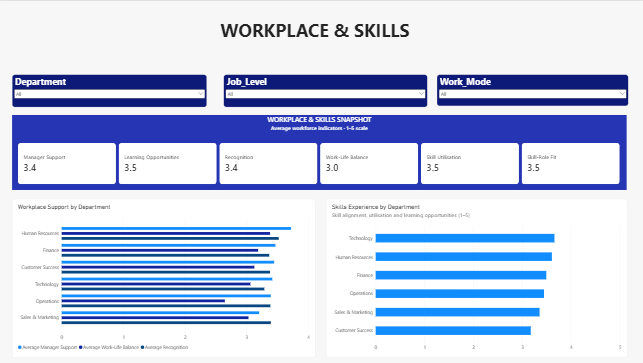

What the dashboard file says about the page in this screenshot:
{"tool":"powerbi","page":{"name":"WORKPLACE & SKILLS","canvas":[1920,1080],"ordinal":2},"visuals":[{"type":"textbox","box":[661.7,51.7,585,80],"z":0},{"type":"slicer","fields":{"Values":["WorkforceDataTable.Work_Mode"]},"box":[1303.3,220,570,93.3],"z":1000},{"type":"slicer","fields":{"Values":["WorkforceDataTable.Job_Level"]},"box":[670,220,606.7,96.7],"z":2000},{"type":"slicer","fields":{"Values":["WorkforceDataTable.Department"]},"box":[40,217.5,580,96.7],"z":3000},{"type":"cardVisual","title":"WORKPLACE & SKILLS SNAPSHOT","fields":{"Data":["WorkforceDataTable.Average Manager Support","WorkforceDataTable.Average Learning Opportunities","WorkforceDataTable.Average Recognition","WorkforceDataTable.Average Work-Life Balance","WorkforceDataTable.Average Skill Utilisation","WorkforceDataTable.Average Skill-Role Fit"]},"box":[40,340,1830,223.3],"z":4000},{"type":"clusteredBarChart","title":"Workplace Support by Department","fields":{"Category":["WorkforceDataTable.Department"],"Y":["WorkforceDataTable.Average Manager Support","WorkforceDataTable.Average Work-Life Balance","WorkforceDataTable.Average Recognition"]},"box":[40,590,903.3,473.3],"z":5000},{"type":"clusteredBarChart","title":"Skills Experience by Department","fields":{"Category":["WorkforceDataTable.Department"],"Y":["WorkforceDataTable.Average Skill-Role Fit"]},"box":[973.3,590,896.7,473.3],"z":6000}]}

Visuals, with their boxes in screenshot pixels (x1, y1, x2, y2), scaled from the page's 1920x1080 canvas onto the 643x363 screenshot:
textbox: region(222, 17, 418, 44)
slicer - WorkforceDataTable.Work_Mode: region(436, 74, 627, 105)
slicer - WorkforceDataTable.Job_Level: region(224, 74, 428, 106)
slicer - WorkforceDataTable.Department: region(13, 73, 208, 106)
"WORKPLACE & SKILLS SNAPSHOT" cardVisual: region(13, 114, 626, 189)
"Workplace Support by Department" clusteredBarChart: region(13, 198, 316, 357)
"Skills Experience by Department" clusteredBarChart: region(326, 198, 626, 357)
